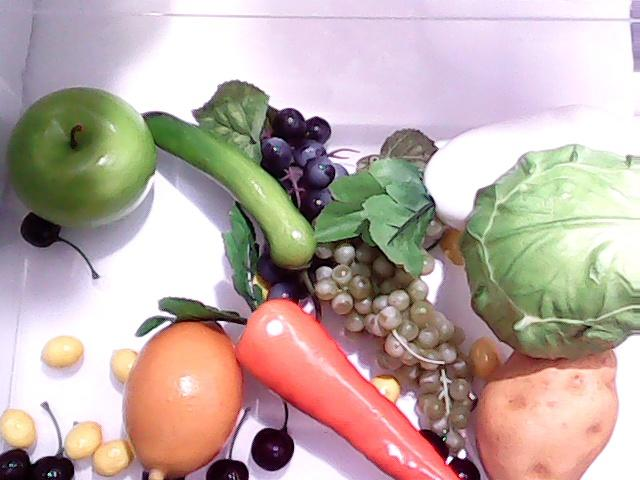apple: (0, 82, 160, 238)
cabbage: (471, 140, 639, 364)
carrot: (132, 204, 460, 480)
grape: (318, 212, 468, 456), (241, 101, 345, 307)
lemon: (113, 304, 244, 480)
pepper: (136, 107, 324, 266)
potato: (468, 346, 620, 478)
radish: (312, 103, 640, 277)
